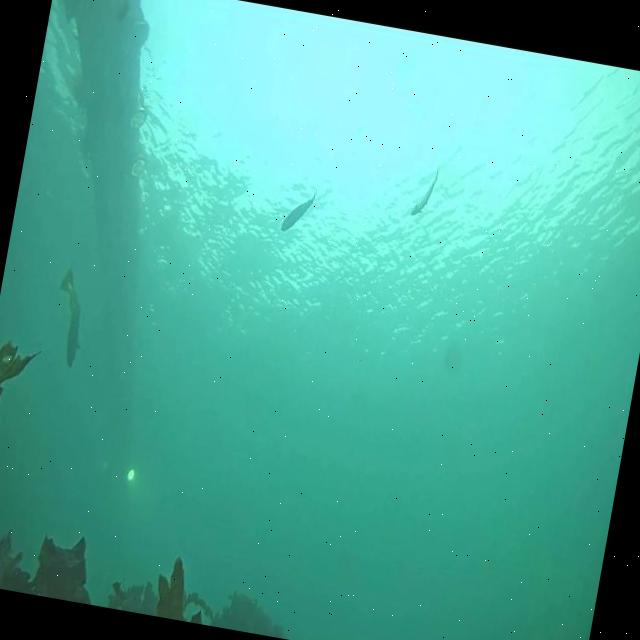fish: (45, 268, 94, 372), (279, 185, 318, 238), (410, 160, 440, 221)
